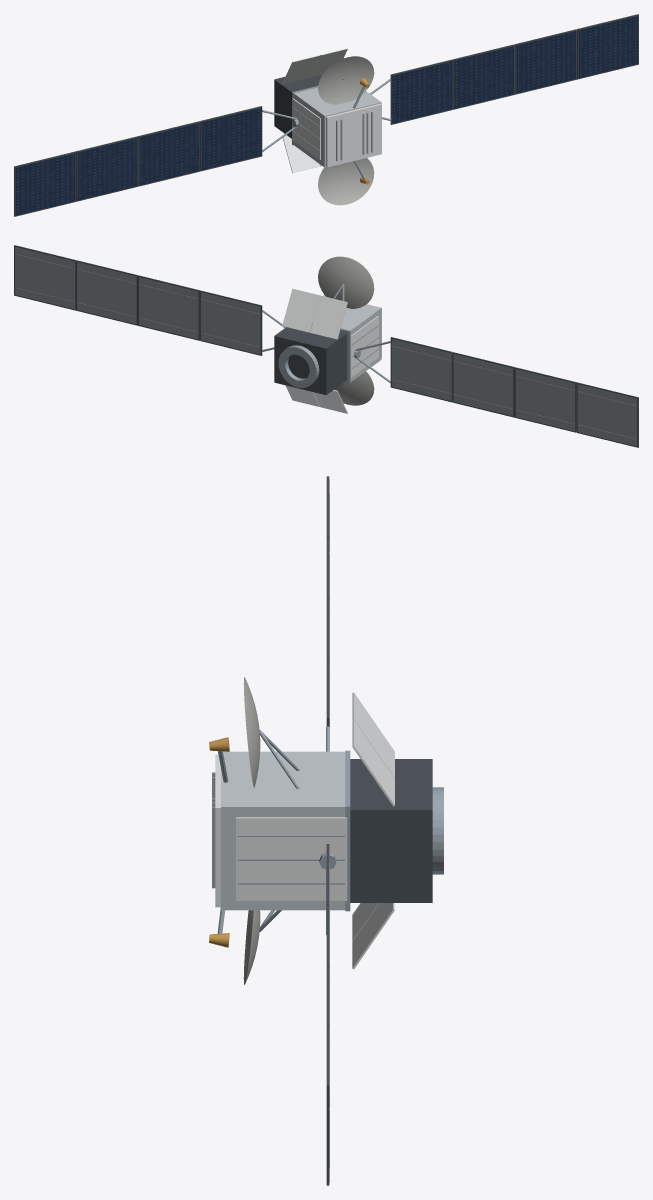
File: a2100-four-panel-dual.glb
3 views of the same model, one above another, from view 1: azimuth 30°, elevation 25°; view 2: azimuth 150°, elevation 25°; view 3: azimuth 270°, elevation 25° (orthographic). The views are drawn at different scales.
Visible parts, largest first — view 1: Solar cell panel (×8), Communications reflector (×2), Solar panel frame (×8), Earth-facing deck, Deployed radiator leaf (×3), Payload module, Service module, Radiator face; view 2: Rear array substrate (×8), Solar panel frame (×8), Service module, Deployed radiator leaf (×4), Communications reflector (×2), Radiator face, Launch adapter ring, Payload module; view 3: Service module, Payload module, Radiator face, Deployed radiator leaf (×3), Communications reflector, Launch adapter ring.
Boxes of the visible parts, x1=… form: Solar cell panel (×8): x1=15, y1=16, x2=638, y2=215; Communications reflector (×2): x1=318, y1=56, x2=374, y2=205; Solar panel frame (×8): x1=14, y1=14, x2=638, y2=216; Earth-facing deck: x1=326, y1=103, x2=381, y2=167; Deployed radiator leaf (×3): x1=282, y1=48, x2=347, y2=173; Payload module: x1=293, y1=87, x2=381, y2=167; Service module: x1=274, y1=75, x2=322, y2=138; Radiator face: x1=292, y1=98, x2=320, y2=159; Rear array substrate (×8): x1=15, y1=247, x2=637, y2=446; Solar panel frame (×8): x1=14, y1=245, x2=638, y2=447; Service module: x1=274, y1=327, x2=346, y2=395; Deployed radiator leaf (×4): x1=282, y1=288, x2=347, y2=413; Communications reflector (×2): x1=318, y1=256, x2=374, y2=405; Radiator face: x1=350, y1=316, x2=378, y2=377; Launch adapter ring: x1=278, y1=345, x2=319, y2=387; Payload module: x1=314, y1=294, x2=381, y2=381; Service module: x1=350, y1=759, x2=432, y2=902; Payload module: x1=221, y1=751, x2=345, y2=910; Radiator face: x1=236, y1=817, x2=347, y2=900; Deployed radiator leaf (×3): x1=352, y1=692, x2=394, y2=969; Communications reflector: x1=243, y1=677, x2=260, y2=787; Launch adapter ring: x1=432, y1=787, x2=443, y2=874.
Bounding box in the file's own units: 21.98 × 4.95 × 3.58.
8 materials, 1 textured.
